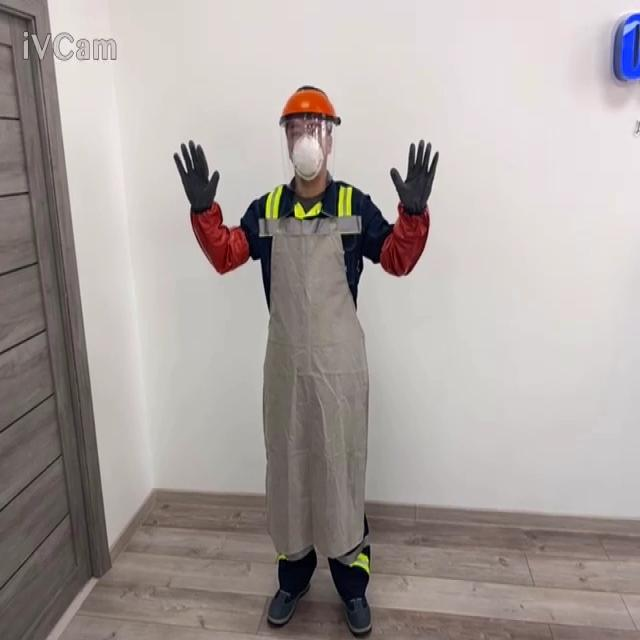Gloves: (389, 138, 439, 214), (173, 139, 219, 213)
Mask: (288, 132, 325, 181)
Protective apron: (259, 189, 370, 562)
Safety Shoes: (266, 580, 310, 625), (343, 593, 372, 635)
Sleeve: (190, 200, 250, 275), (379, 201, 429, 276)
